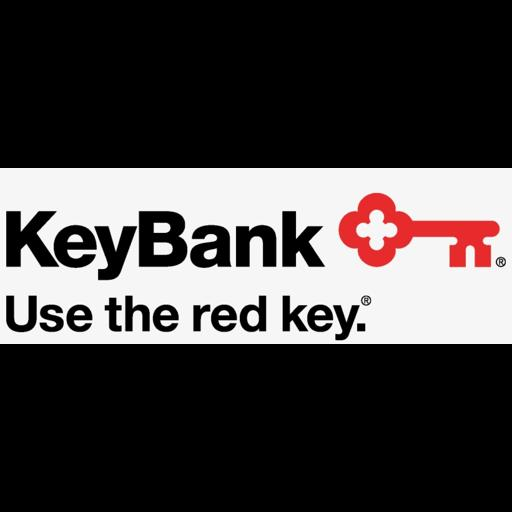Key Bank: (0, 168, 512, 344)
